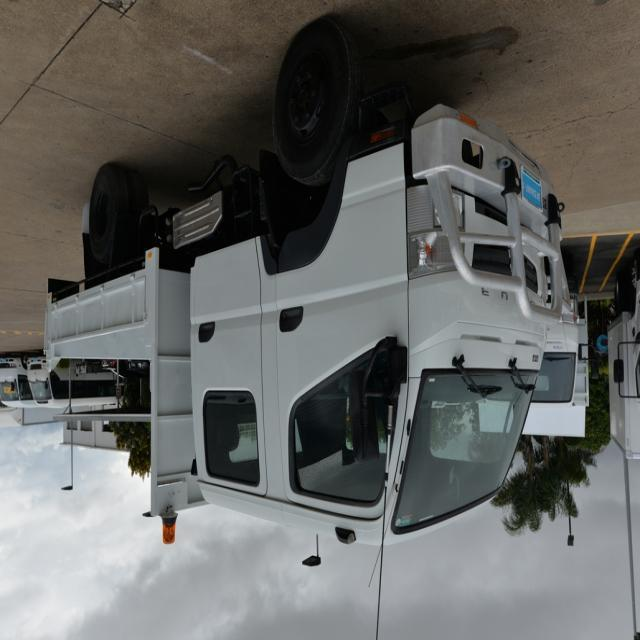truck: (40, 80, 566, 550)
